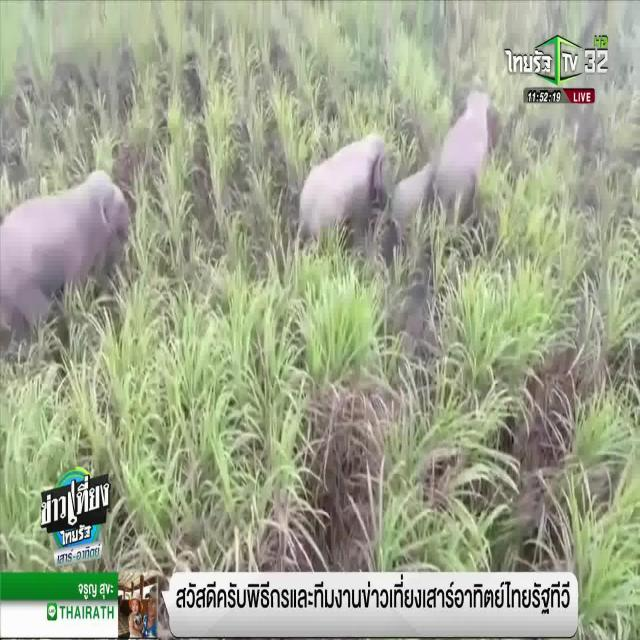Elephant: (15, 186, 131, 266), (317, 156, 391, 226), (448, 100, 489, 188), (402, 171, 430, 206)
